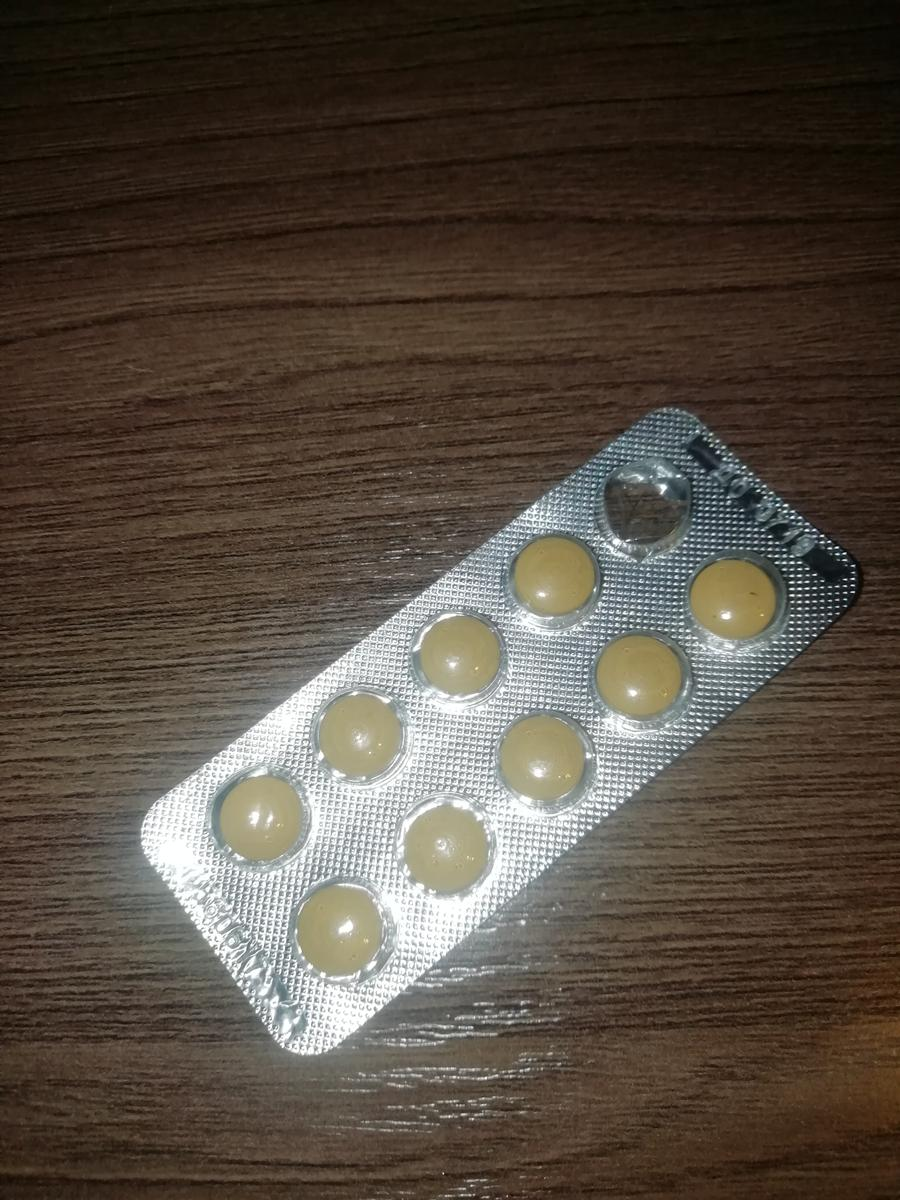tablet: (284, 877, 395, 974), (389, 798, 500, 895), (485, 706, 596, 803), (578, 632, 689, 729), (681, 547, 792, 644), (501, 540, 610, 626), (404, 611, 513, 697), (303, 692, 412, 778), (211, 772, 320, 858)
